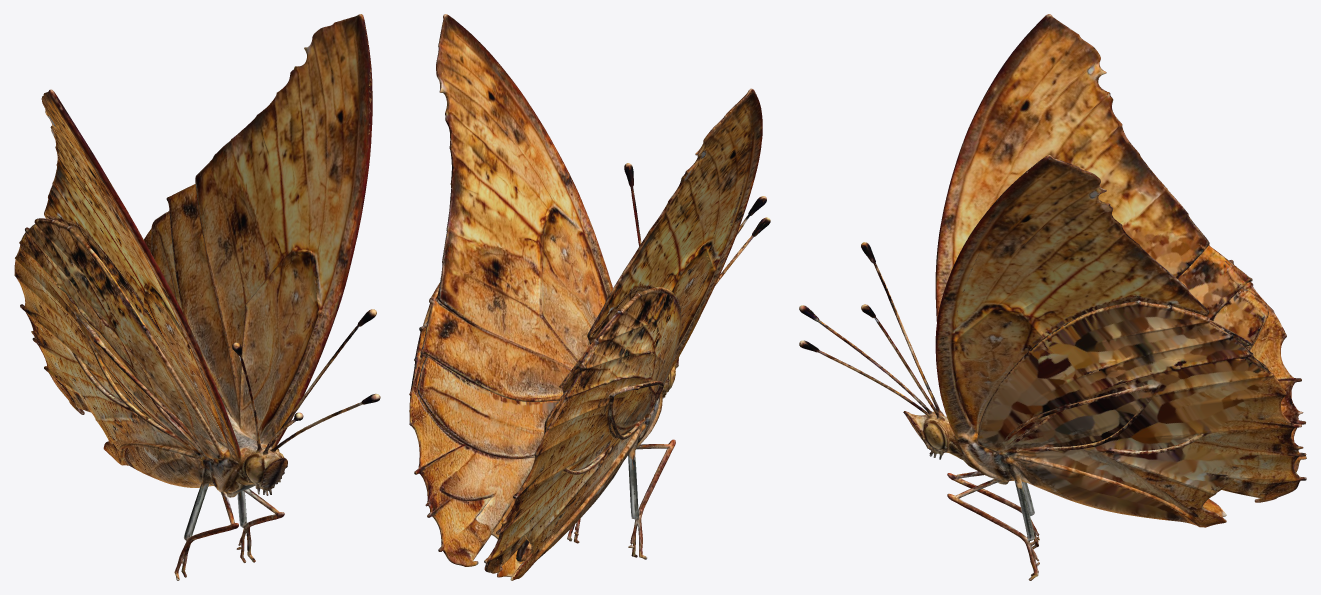
The model's file is leafwing.glb.
3 views of the same model, side by side, from view 1: azimuth 30°, elevation 25°; view 2: azimuth 150°, elevation 25°; view 3: azimuth 270°, elevation 25° (orthographic). The views are drawn at different scales.
Visible parts, largest first — view 1: leafwing; view 2: leafwing; view 3: leafwing.
Boxes of the visible parts, x1=… form: leafwing: x1=14, y1=14, x2=380, y2=580; leafwing: x1=409, y1=14, x2=770, y2=580; leafwing: x1=799, y1=14, x2=1306, y2=580.
Bounding box in the file's own units: 0.6404 × 1 × 0.9608.
Materials: 1 (1 with a texture image).
